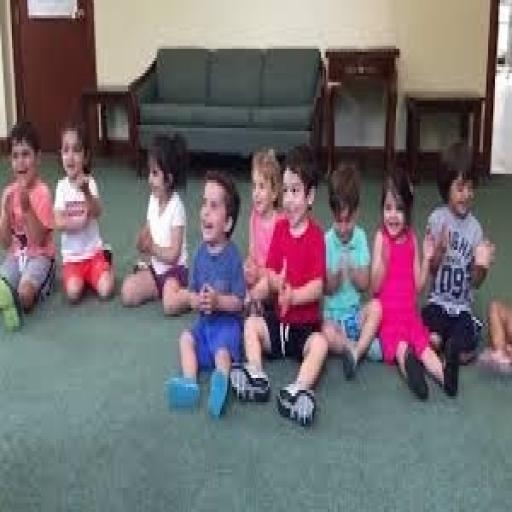clapping: (2, 112, 500, 424)
